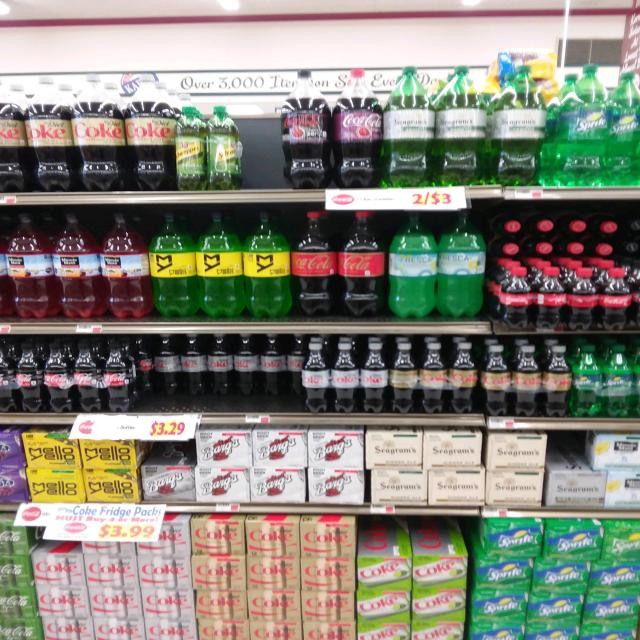100- O.O.S: (245, 112, 277, 201)
